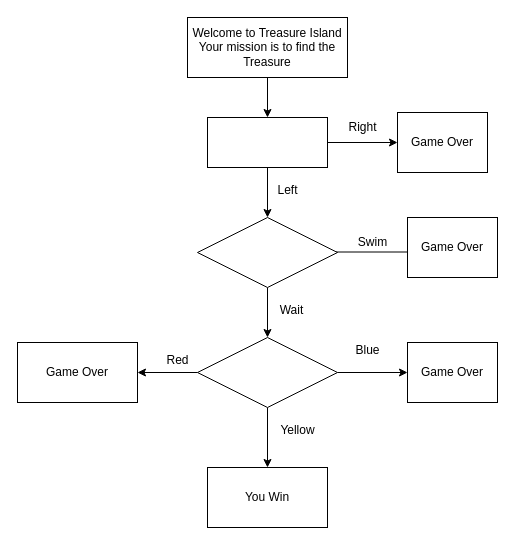
The diagram is 515 pixels wide and 545 high, and some of its shapes have lost their labels. The centre of each missing label's shape, as x and y in pixels:
Left or Right: the point at 267,142
Swim of wait: the point at 267,252
Which Color: the point at 267,372
